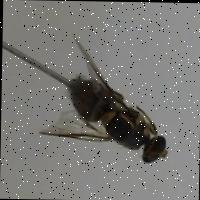Oriental-fruit-fly: (32, 40, 174, 174)
